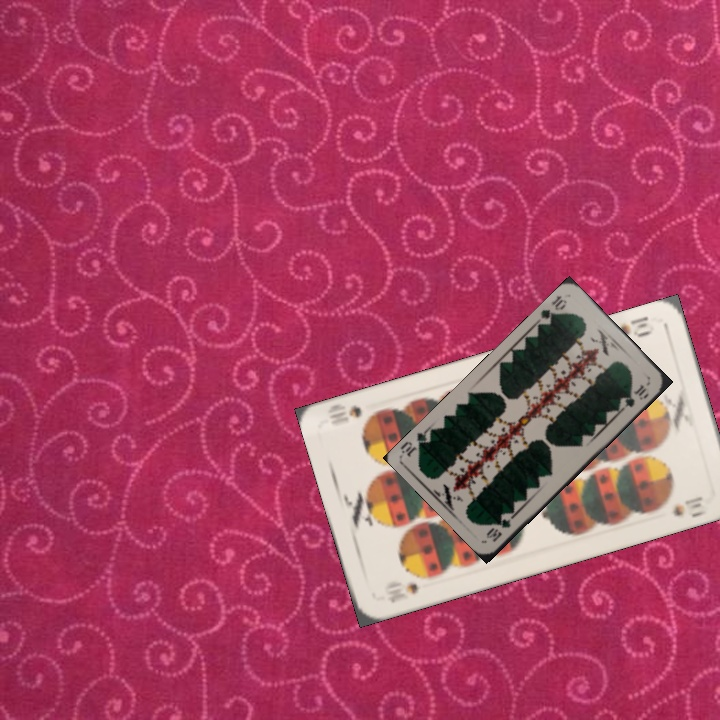G10: (482, 508, 517, 545), (534, 291, 569, 328)
S10: (614, 312, 657, 340), (383, 578, 421, 606)
